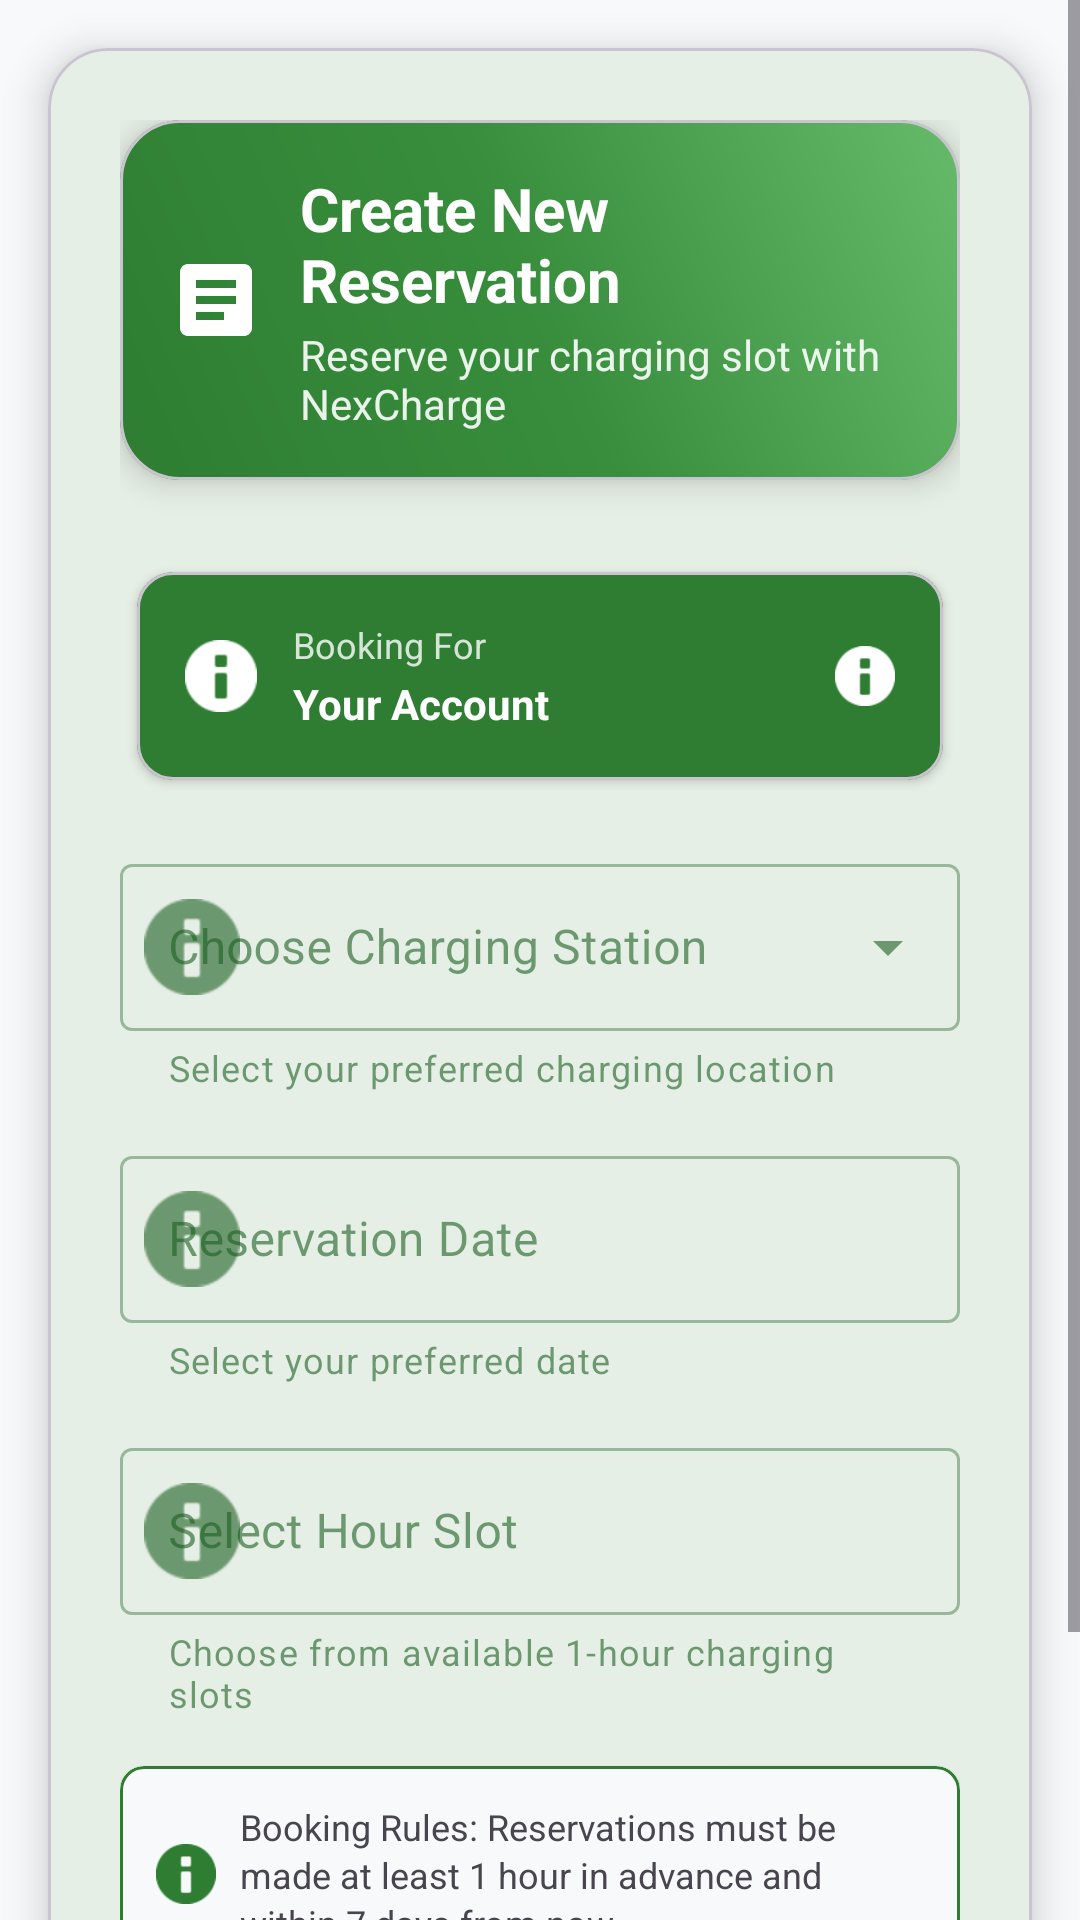

Screen size 1080px×1920px. Icon name, then its center in pixels as [x,y]:
info: [221,676], [865,676], [186,1874]
